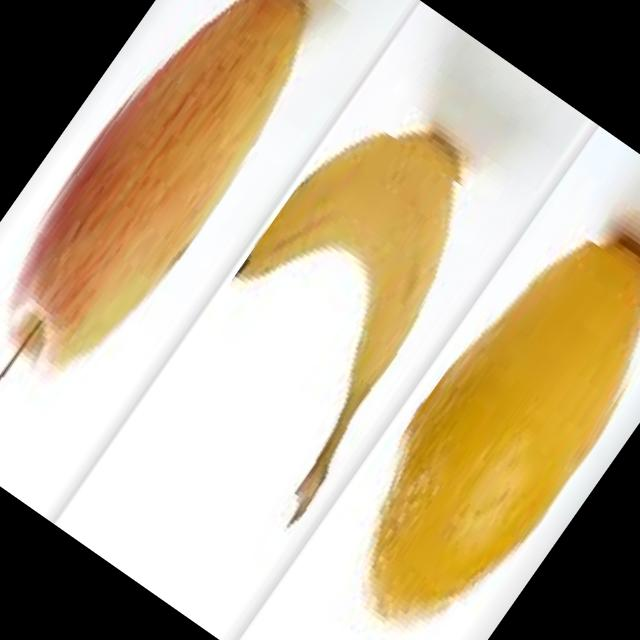Organic: (109, 107, 514, 567), (0, 0, 351, 454), (295, 213, 640, 640)
